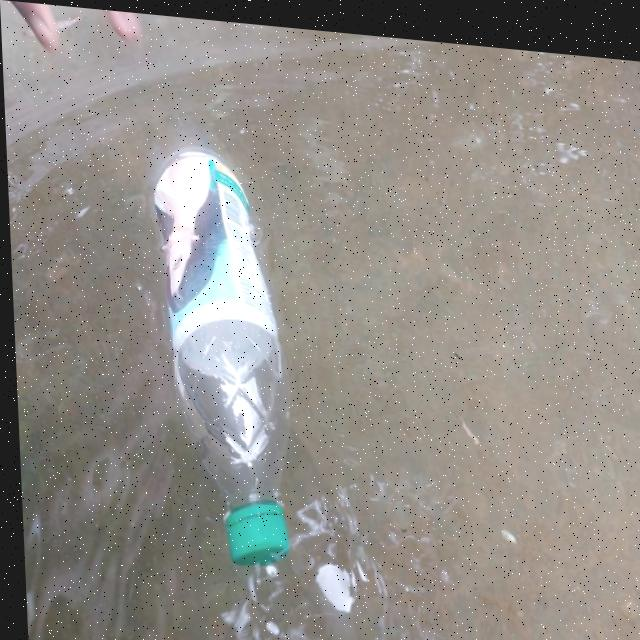waterbottle: (134, 134, 292, 578)
